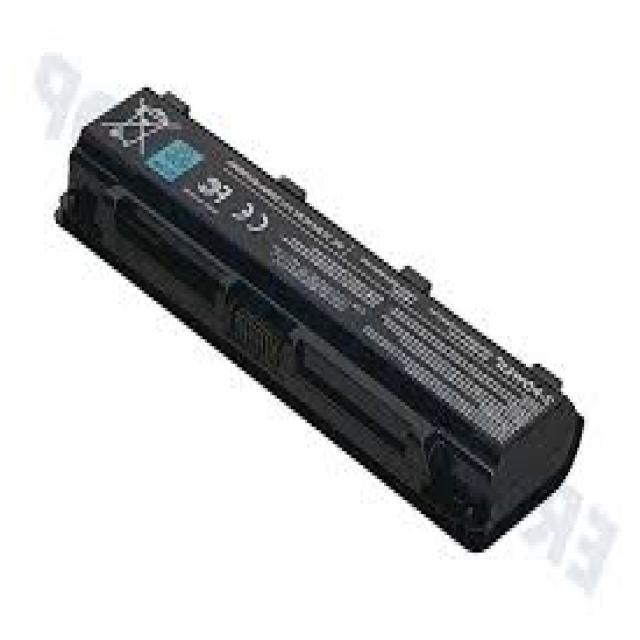battery: (52, 89, 586, 558)
